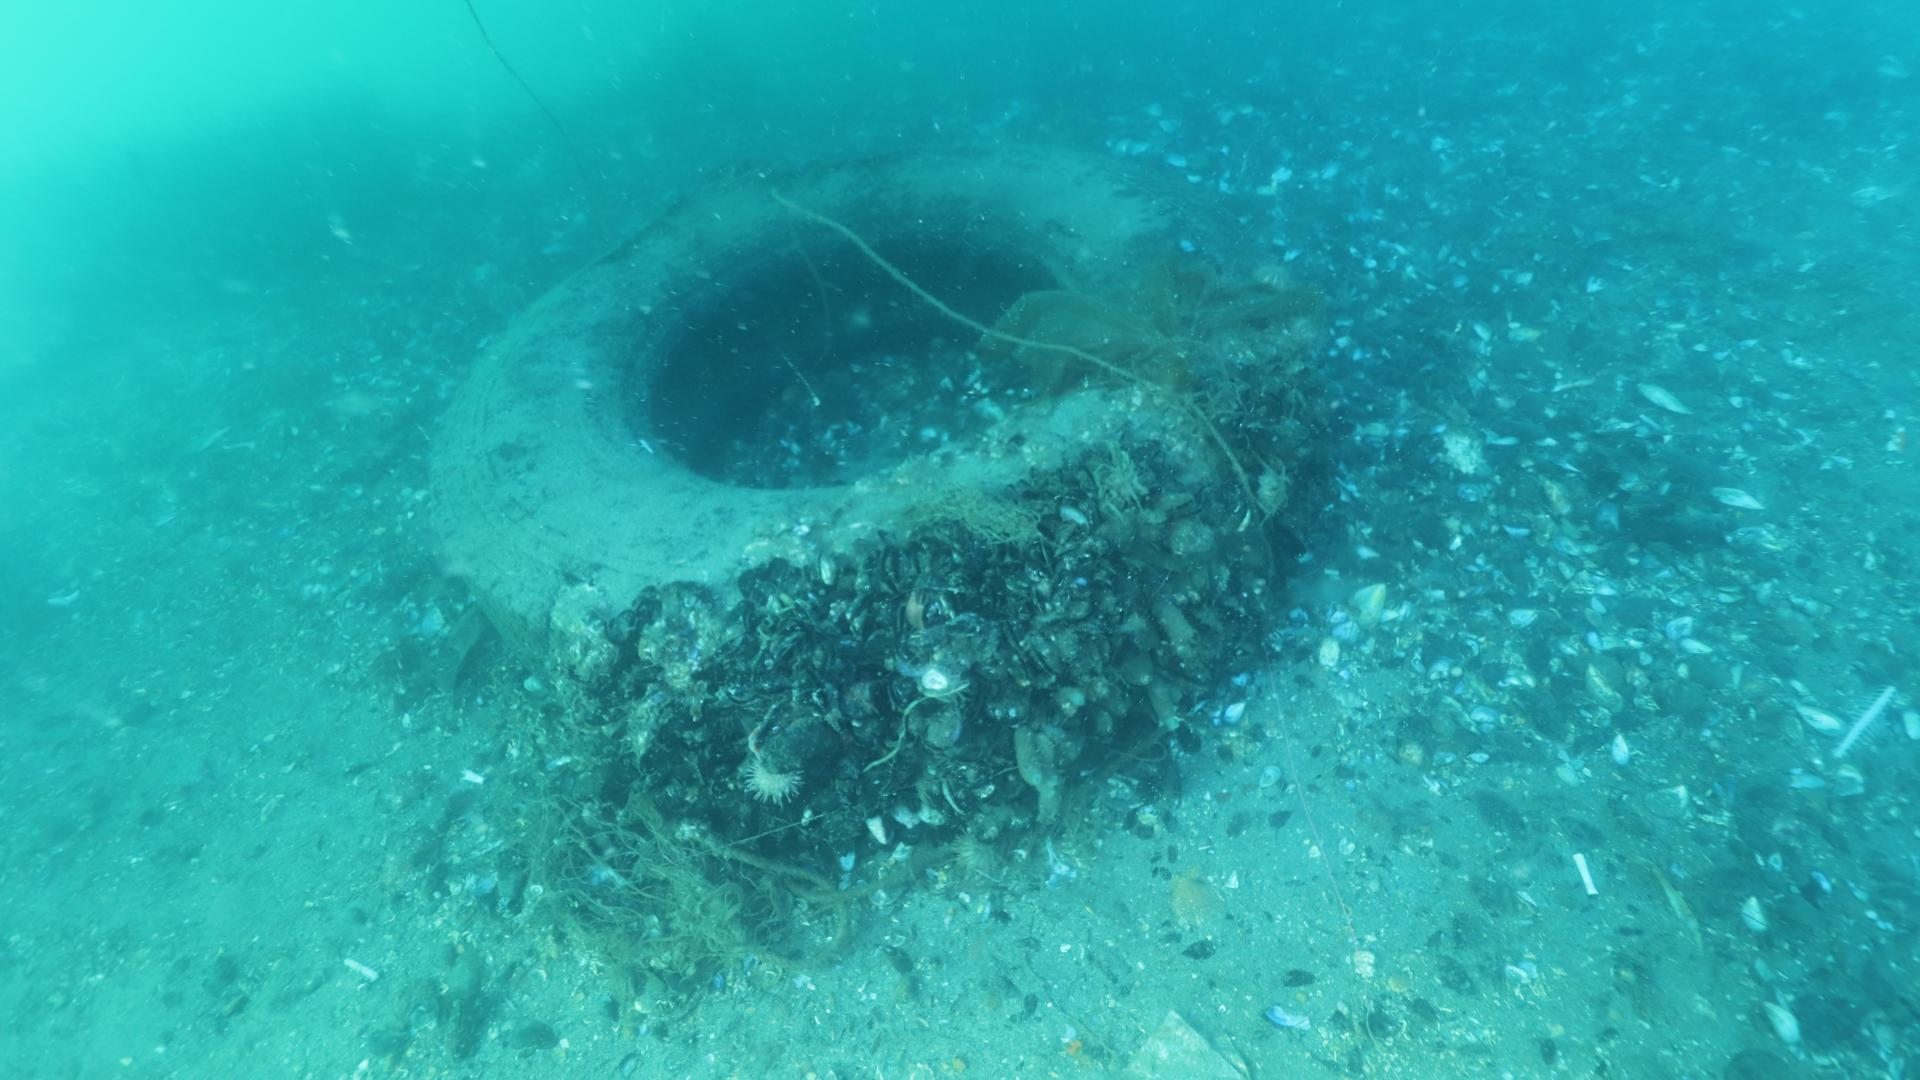tire: (436, 142, 1164, 742)
